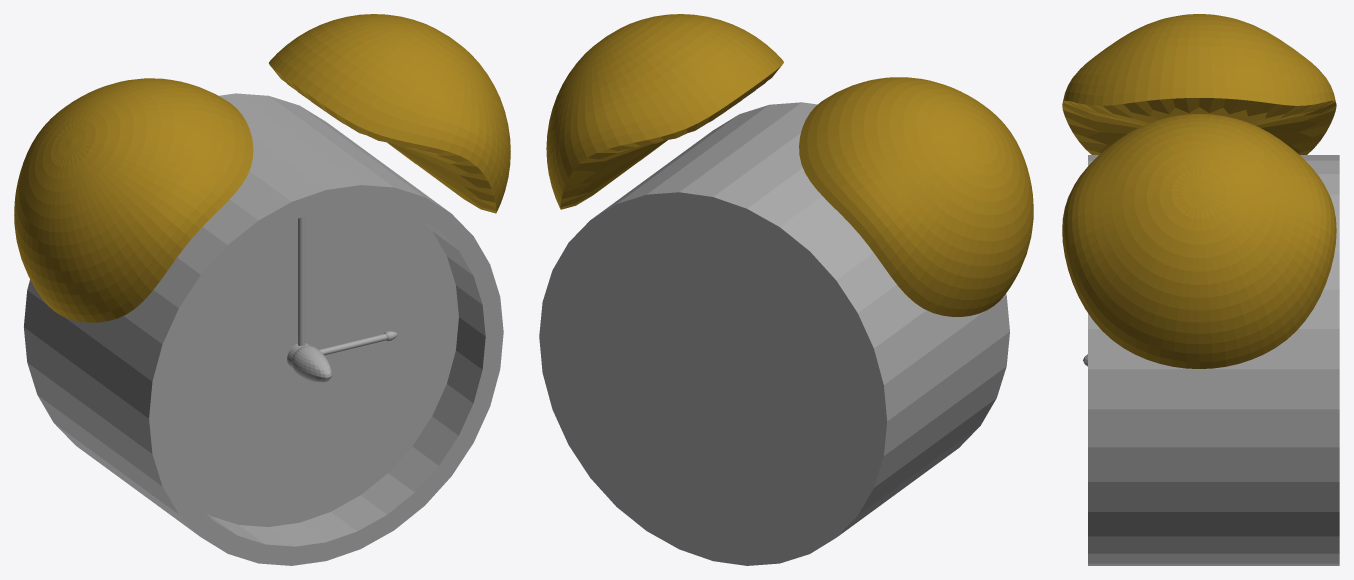
File: Clock.fbx
3 renders of one model, left to right at view 1: azimuth 30°, elevation 25°; view 2: azimuth 150°, elevation 25°; view 3: azimuth 270°, elevation 25°, orthographic. The views are drawn at different scales.
Visible parts, largest first — view 1: Cylinder.000, Sphere.001, Sphere; view 2: Cylinder.000, Sphere.001, Sphere; view 3: Cylinder.000, Sphere, Sphere.001.
Part boxes in pixels (x1=…): Cylinder.000: x1=24, y1=93, x2=503, y2=565; Sphere.001: x1=14, y1=78, x2=253, y2=322; Sphere: x1=269, y1=14, x2=510, y2=213; Cylinder.000: x1=539, y1=102, x2=1009, y2=565; Sphere.001: x1=799, y1=77, x2=1033, y2=316; Sphere: x1=546, y1=14, x2=783, y2=209; Cylinder.000: x1=1083, y1=155, x2=1339, y2=565; Sphere: x1=1062, y1=114, x2=1336, y2=368; Sphere.001: x1=1062, y1=14, x2=1336, y2=154.
Size of the model in its own units: 259 by 253 by 135.
